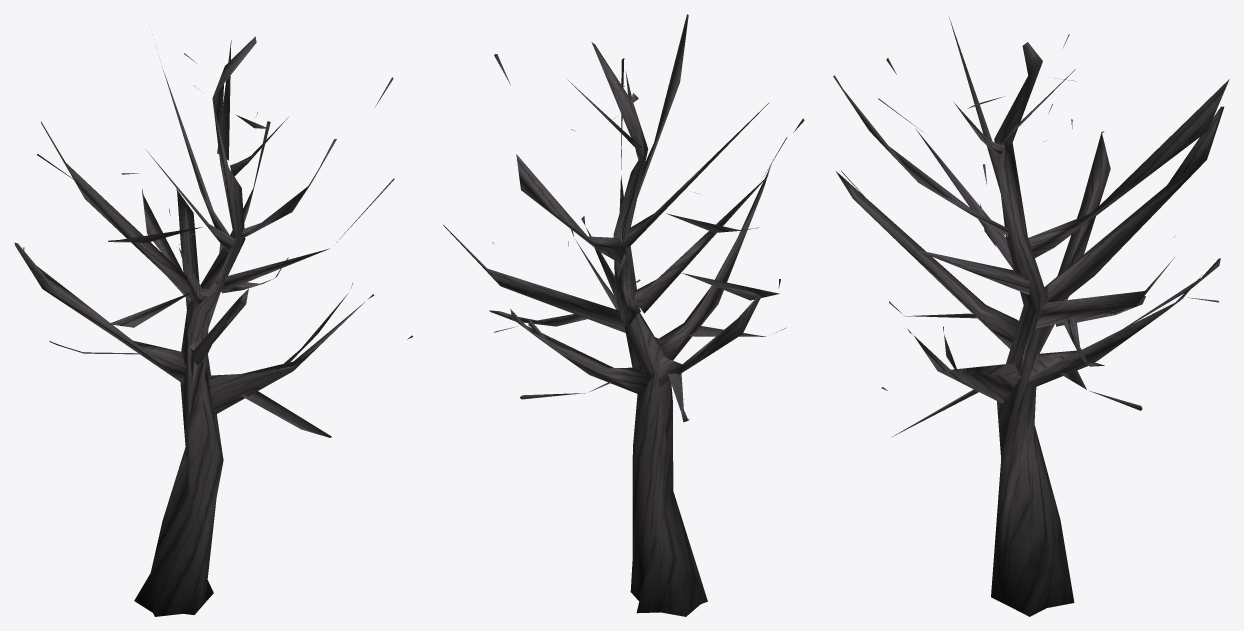
Rendered from dead_1.glb.
The picture shows the model from 3 angles, left to right: view 1: azimuth 30°, elevation 25°; view 2: azimuth 150°, elevation 25°; view 3: azimuth 270°, elevation 25°; orthographic projection. The views are drawn at different scales.
Parts seen in each view (by area): view 1: DeadTree_1; view 2: DeadTree_1; view 3: DeadTree_1.
Part boxes in pixels (bbox=[...]): DeadTree_1: bbox=[14, 36, 412, 616]; DeadTree_1: bbox=[443, 14, 804, 616]; DeadTree_1: bbox=[833, 17, 1229, 616].
Size of the model in its own units: 5.99 by 9.48 by 5.72.
1 material, 1 textured.
